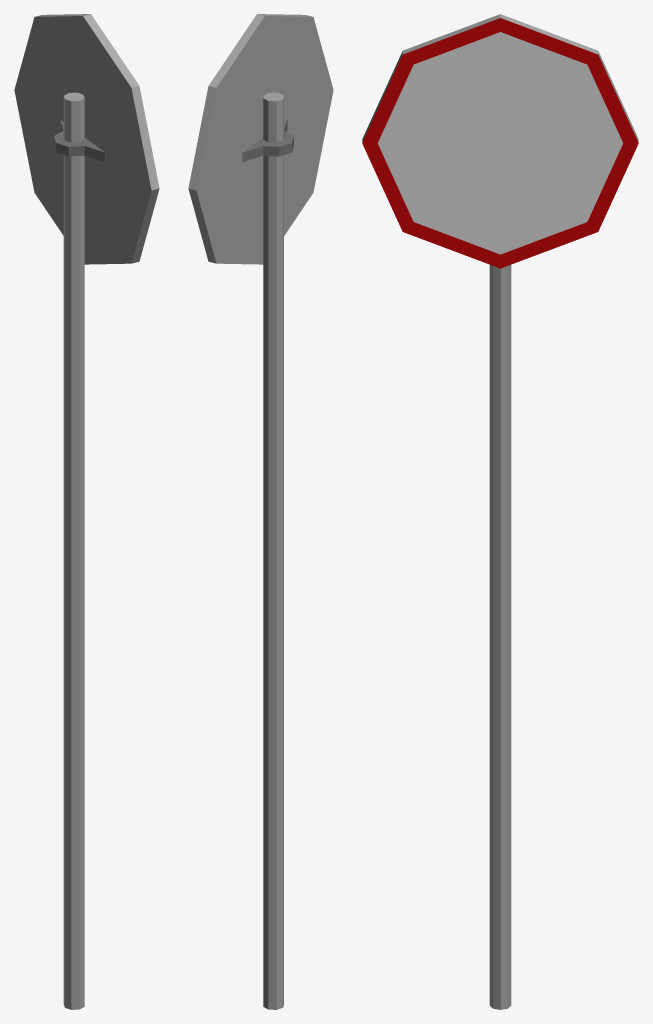
Rendered from Znak_V3.fbx.
3 views of the same model, side by side, from view 1: azimuth 30°, elevation 25°; view 2: azimuth 150°, elevation 25°; view 3: azimuth 270°, elevation 25° (orthographic).
Parts seen in each view (by area): view 1: Znak_V3; view 2: Znak_V3; view 3: Znak_V3.
Part boxes in pixels (x1,y1,x2,y2): Znak_V3: (14,14,159,1009); Znak_V3: (188,14,333,1009); Znak_V3: (362,14,638,1009).
Size of the model in its own units: 0.1709 by 4.61 by 1.16.
